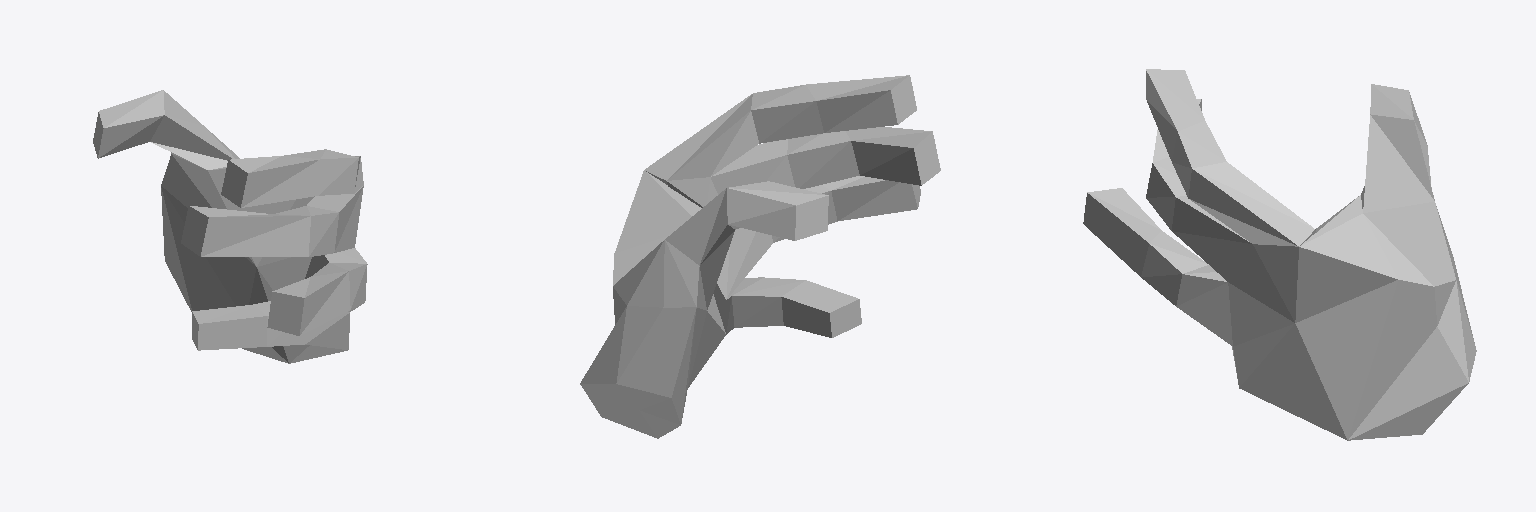
The model's file is RecorderHandLeft5.obj.
3 renders of one model, left to right at view 1: azimuth 30°, elevation 25°; view 2: azimuth 150°, elevation 25°; view 3: azimuth 270°, elevation 25°, orthographic.
Parts seen in each view (by area): view 1: Converted object 0; view 2: Converted object 0; view 3: Converted object 0.
Boxes of the visible parts, x1,y1,x2,y2 form: Converted object 0: [93, 90, 367, 363]; Converted object 0: [580, 75, 940, 438]; Converted object 0: [1083, 69, 1476, 440].
Size of the model in its own units: 3.58 by 4.49 by 5.33.